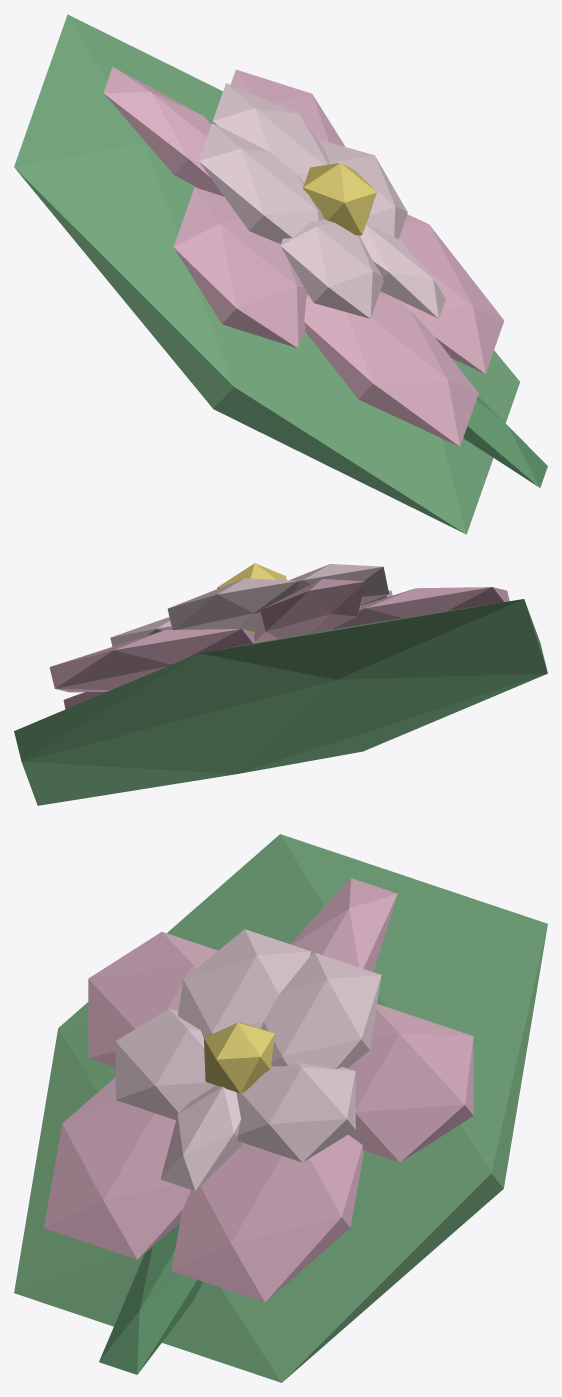
3 renders of one model, top to bottom at view 1: azimuth 30°, elevation 25°; view 2: azimuth 150°, elevation 25°; view 3: azimuth 270°, elevation 25°, orthographic. The views are drawn at different scales.
Visible parts, largest first — view 1: part0, part4, part3, part7, part5, part8, part2, part11, part9, part12, part1, part10 (+1 smaller); view 2: part0, part6, part2, part11, part3, part7, part10, part12, part5; view 3: part0, part5, part4, part6, part11, part10, part3, part7, part8, part1, part2, part9 (+1 smaller).
Part boxes in pixels (x1,y1,x2,y2): part0: [14, 14, 519, 534]; part4: [304, 291, 478, 446]; part3: [173, 187, 307, 348]; part7: [199, 123, 323, 244]; part5: [397, 214, 504, 373]; part8: [280, 218, 383, 318]; part2: [103, 67, 223, 196]; part11: [213, 83, 329, 183]; part9: [359, 224, 445, 318]; part12: [303, 163, 376, 235]; part1: [463, 396, 547, 487]; part10: [318, 139, 407, 238]; part0: [14, 599, 547, 805]; part6: [49, 629, 255, 692]; part2: [254, 579, 365, 642]; part11: [167, 578, 298, 630]; part3: [331, 587, 509, 629]; part7: [289, 564, 388, 605]; part10: [110, 617, 172, 646]; part12: [217, 563, 286, 631]; part5: [63, 691, 106, 709]; part0: [14, 834, 547, 1382]; part5: [171, 1134, 363, 1302]; part4: [44, 1077, 190, 1259]; part6: [348, 1004, 473, 1162]; part11: [261, 952, 381, 1068]; part10: [236, 1062, 355, 1162]; part3: [88, 932, 217, 1067]; part7: [178, 929, 311, 1037]; part8: [115, 1008, 215, 1119]; part1: [99, 1223, 202, 1374]; part2: [290, 878, 397, 971]; part9: [160, 1085, 243, 1190].
Size of the model in its own units: 3.88 by 2.7 by 3.78.
